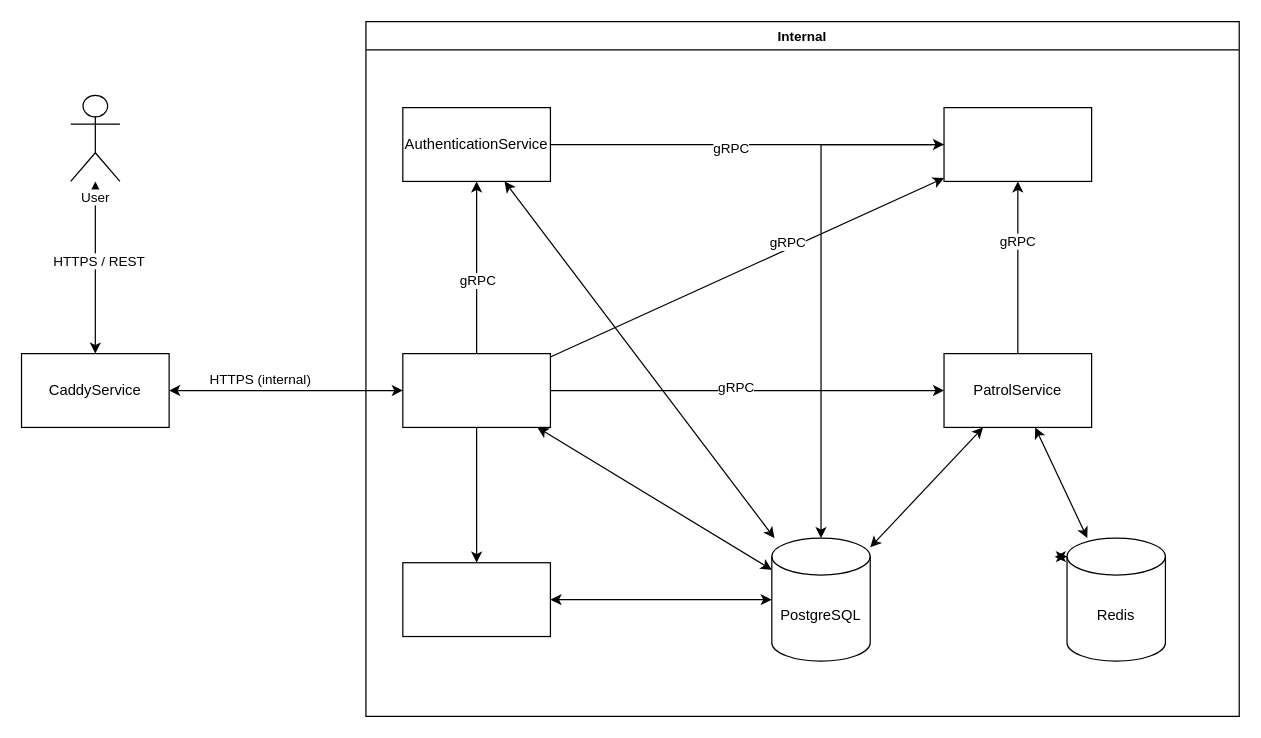
Some shapes in this 1261 by 738 pixel diagram are drawn without their labels. The centre of each missing label's shape, as x and y in pixels:
"<<API Gateway>> BrokerService" goes at [476,389].
"CrimeService" goes at [476,599].
"LoggerService" goes at [1017,143].
